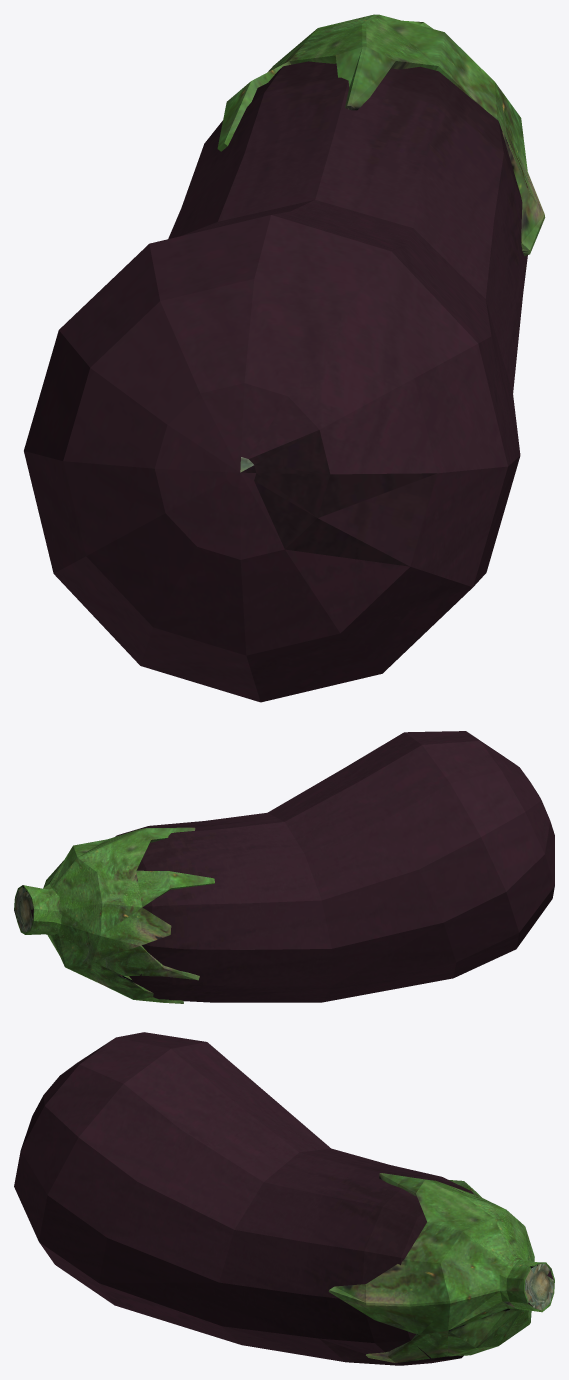
File: berenjena2.obj
3 views of the same model, one above another, from view 1: azimuth 30°, elevation 25°; view 2: azimuth 150°, elevation 25°; view 3: azimuth 270°, elevation 25° (orthographic). The views are drawn at different scales.
Parts seen in each view (by area): view 1: Eggplant_0; view 2: Eggplant_0; view 3: Eggplant_0.
Part boxes in pixels (x1=…): Eggplant_0: x1=24, y1=14, x2=545, y2=702; Eggplant_0: x1=14, y1=731, x2=554, y2=1003; Eggplant_0: x1=14, y1=1032, x2=554, y2=1365.
Size of the model in its own units: 0.7273 by 0.4423 by 0.841.
Materials: 1 (1 with a texture image).
